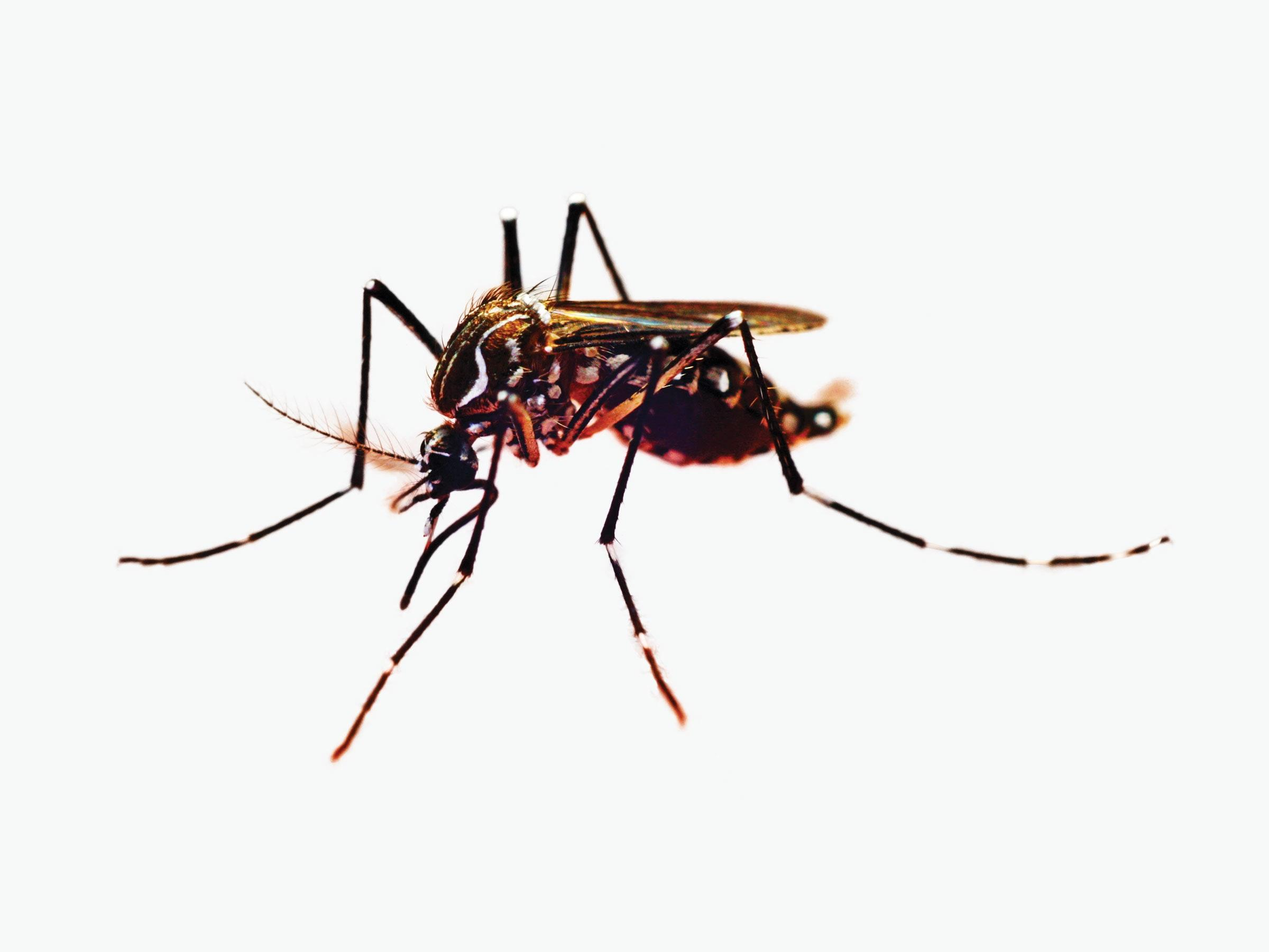Insects: (110, 180, 1196, 772)
